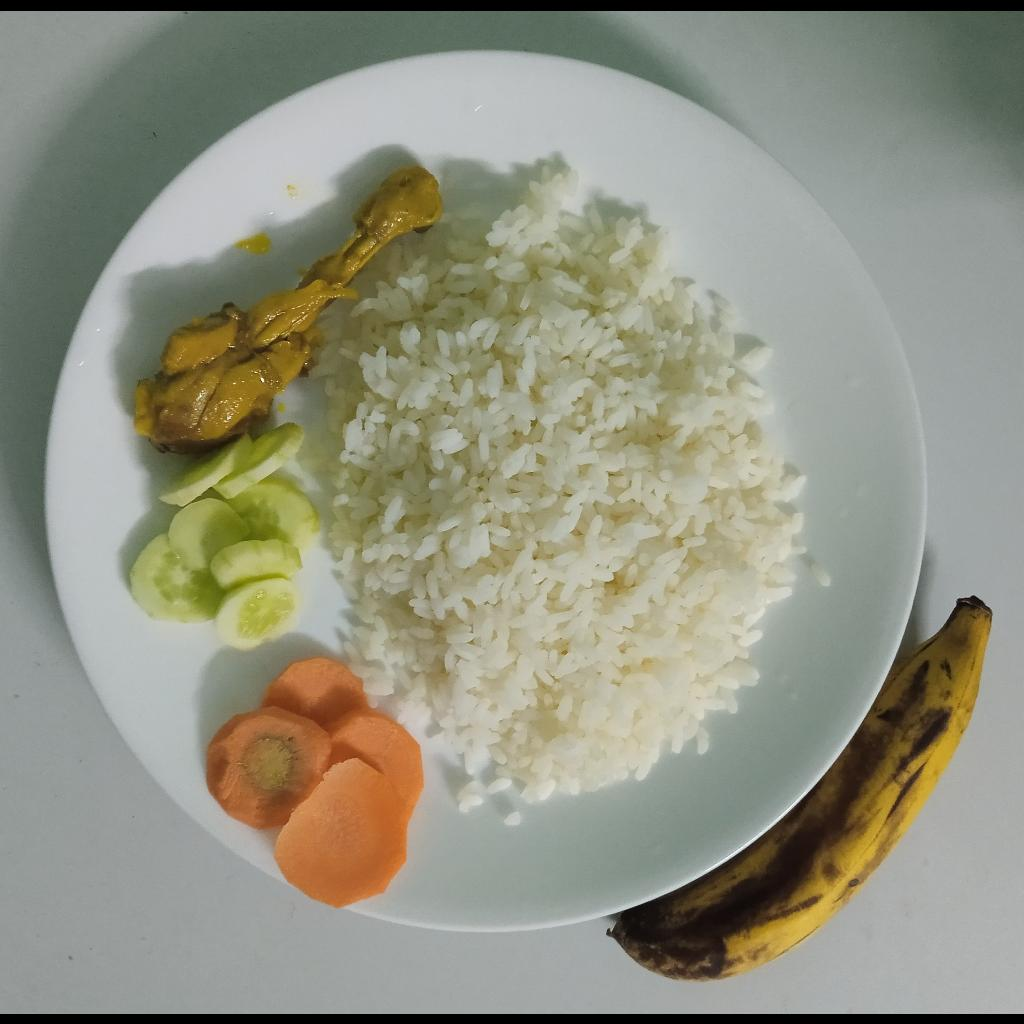banana: (611, 594, 993, 981)
carrot: (206, 656, 424, 909)
chicken: (131, 166, 442, 451)
cucumber: (128, 420, 318, 651)
rice: (313, 166, 804, 830)
